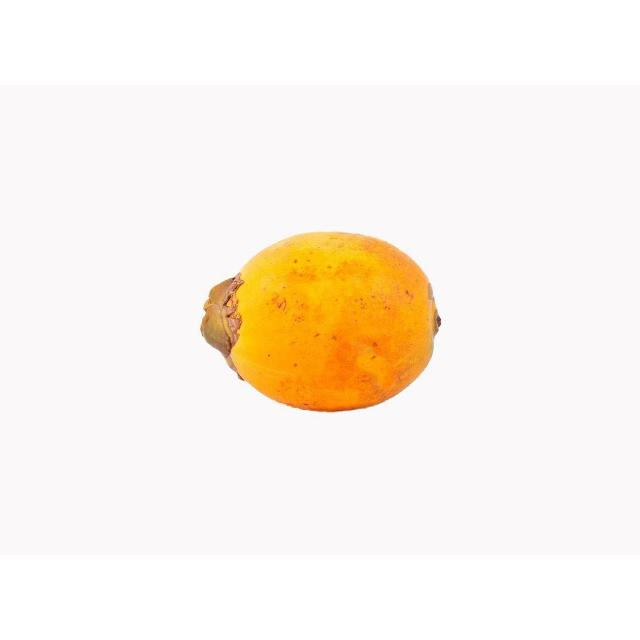good: (200, 232, 443, 415)
